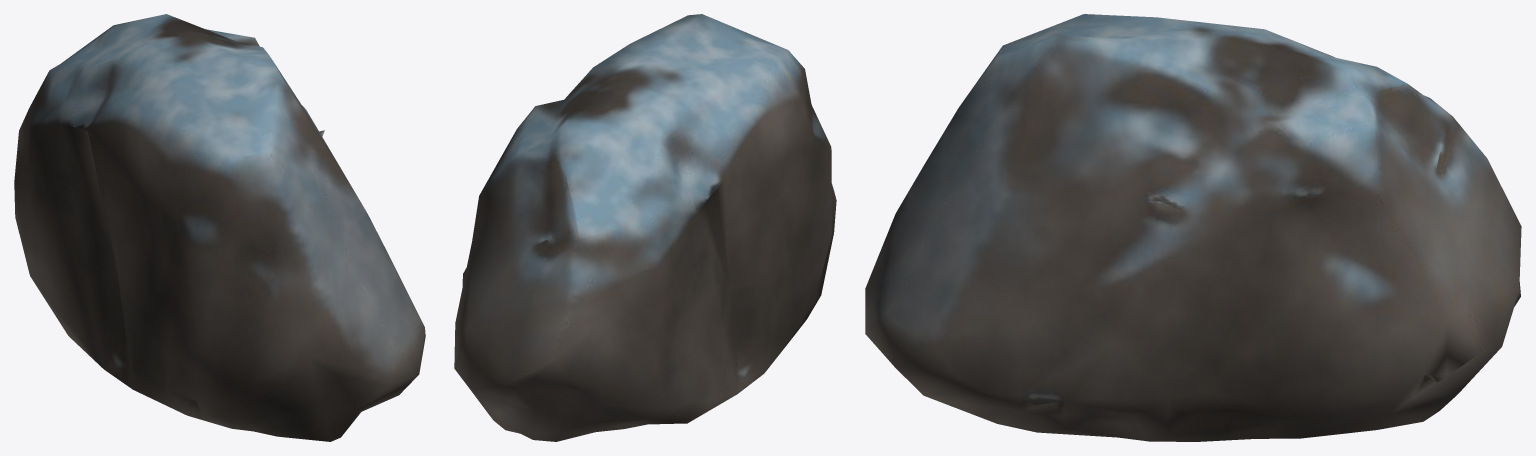
File: SM_Rock_Edge_1.glb
3 renders of one model, left to right at view 1: azimuth 30°, elevation 25°; view 2: azimuth 150°, elevation 25°; view 3: azimuth 270°, elevation 25°, orthographic. The views are drawn at different scales.
Parts seen in each view (by area): view 1: SM_Rock_Edge_1; view 2: SM_Rock_Edge_1; view 3: SM_Rock_Edge_1.
Part boxes in pixels (x1,y1,x2,y2): SM_Rock_Edge_1: (14, 14, 425, 441); SM_Rock_Edge_1: (454, 14, 836, 441); SM_Rock_Edge_1: (865, 14, 1521, 441).
Size of the model in its own units: 0.6294 by 0.7958 by 1.33.
1 material, 1 textured.
